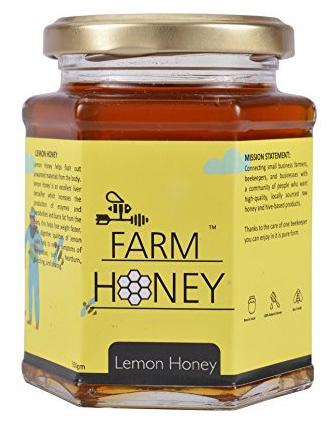JAR: (17, 10, 320, 416)
